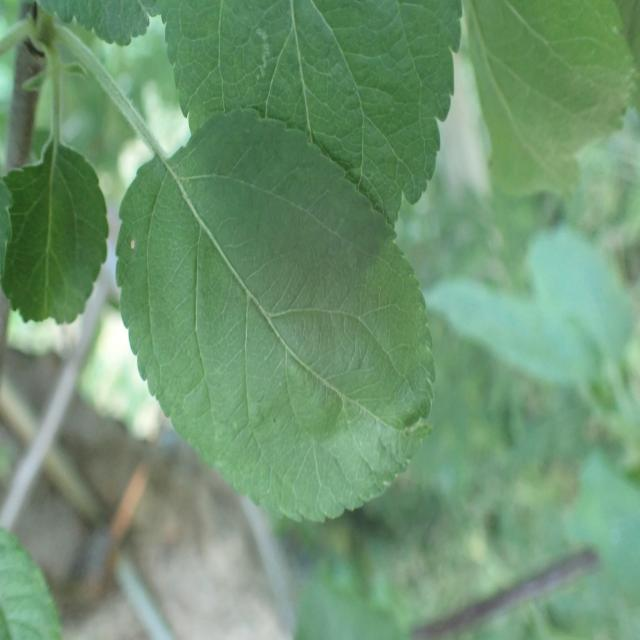healthy: (115, 110, 436, 524), (162, 0, 464, 227), (465, 1, 638, 200), (1, 138, 109, 326)
